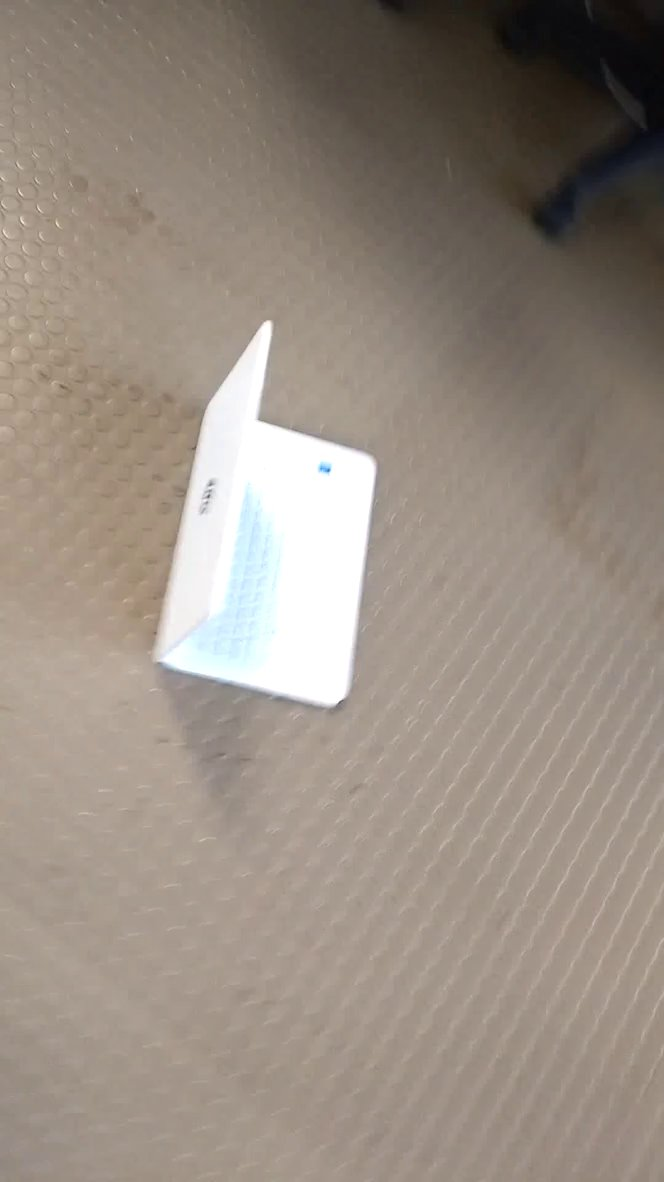laptop: (137, 314, 388, 723)
